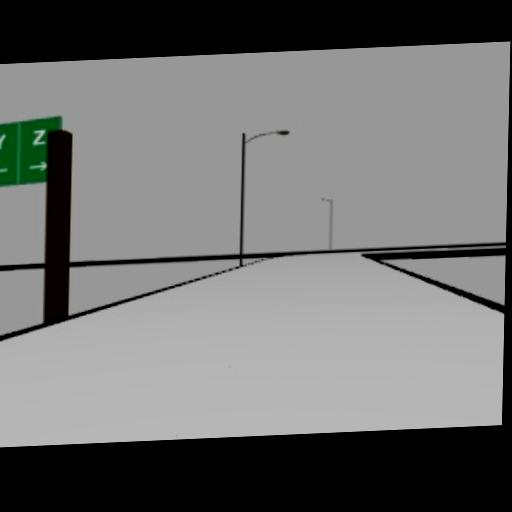Left: (0, 163, 10, 176)
Right: (28, 161, 46, 172)
Y: (0, 134, 5, 150)
Z: (32, 128, 46, 144)
